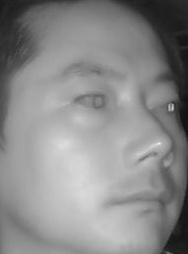eye: (71, 88, 109, 113), (149, 95, 183, 116)
mouth: (108, 180, 174, 218)
